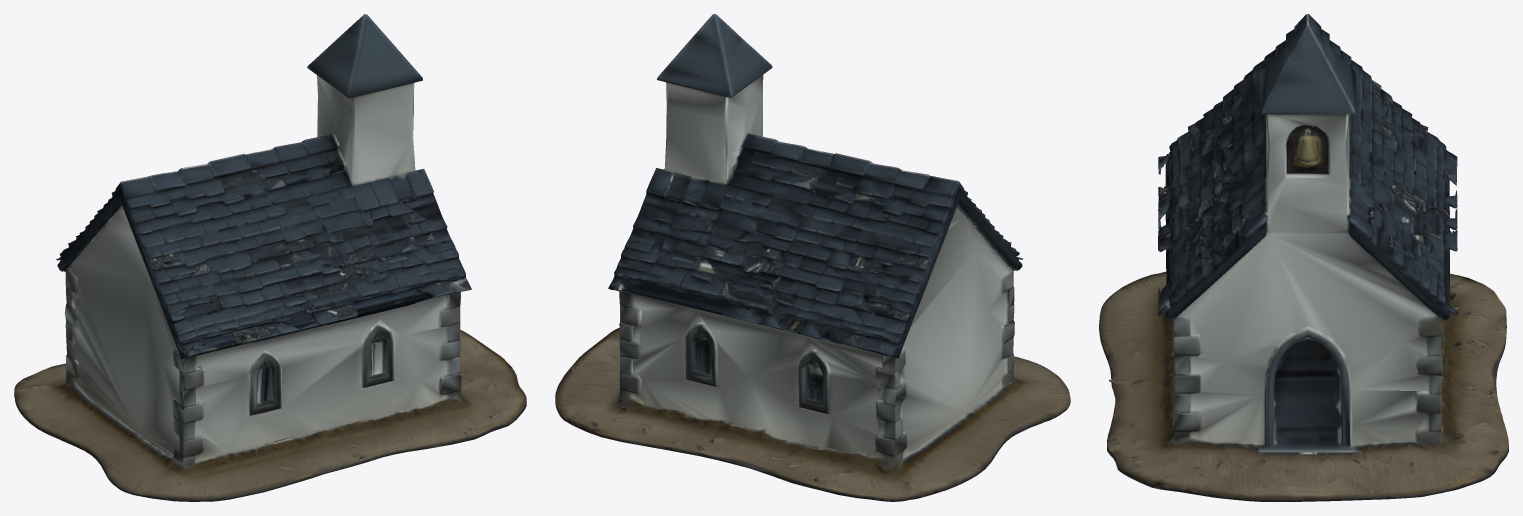
3 views of the same model, side by side, from view 1: azimuth 30°, elevation 25°; view 2: azimuth 150°, elevation 25°; view 3: azimuth 270°, elevation 25° (orthographic). The views are drawn at different scales.
Parts seen in each view (by area): view 1: repaired; view 2: repaired; view 3: repaired.
Part boxes in pixels (bbox=[...]): repaired: bbox=[14, 14, 526, 501]; repaired: bbox=[555, 14, 1070, 501]; repaired: bbox=[1099, 14, 1508, 501].
Size of the model in its own units: 0.9993 by 0.8647 by 0.7499.
1 material, 1 textured.
